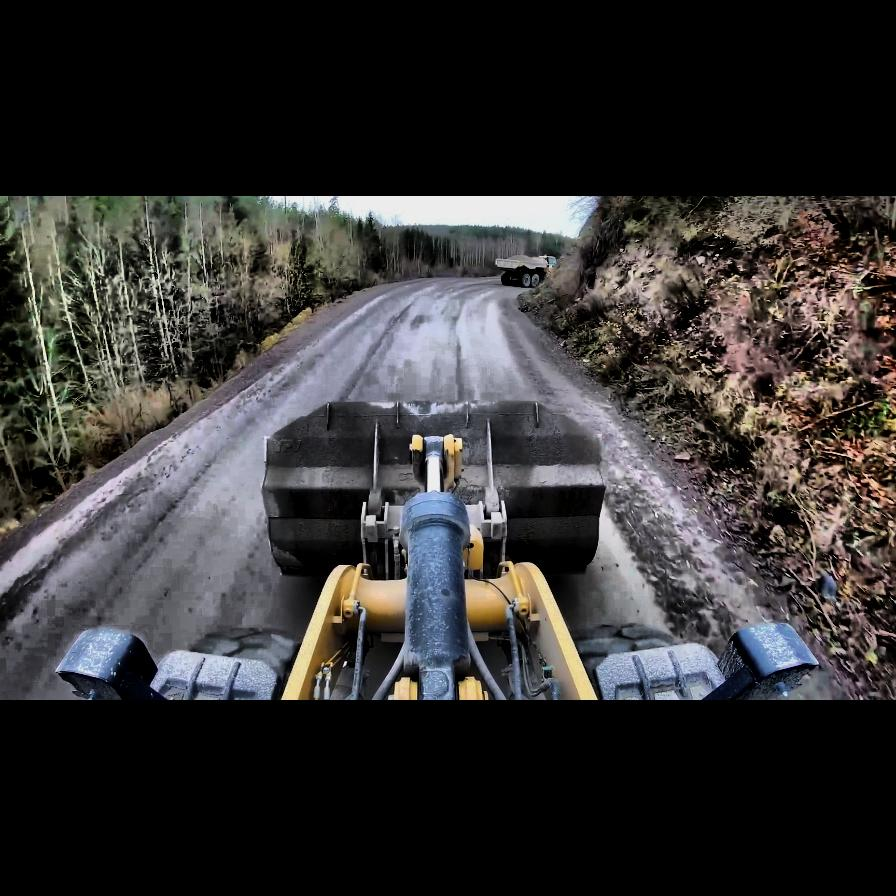anchor: (411, 433, 463, 493)
